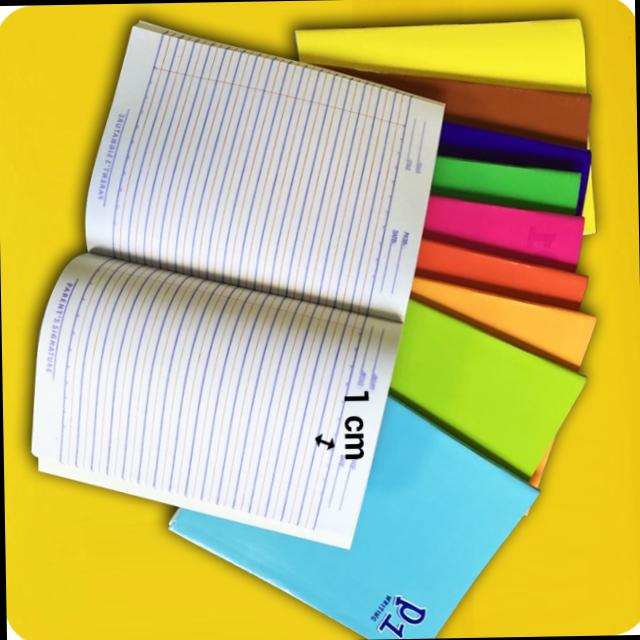notebook: (11, 3, 467, 565)
